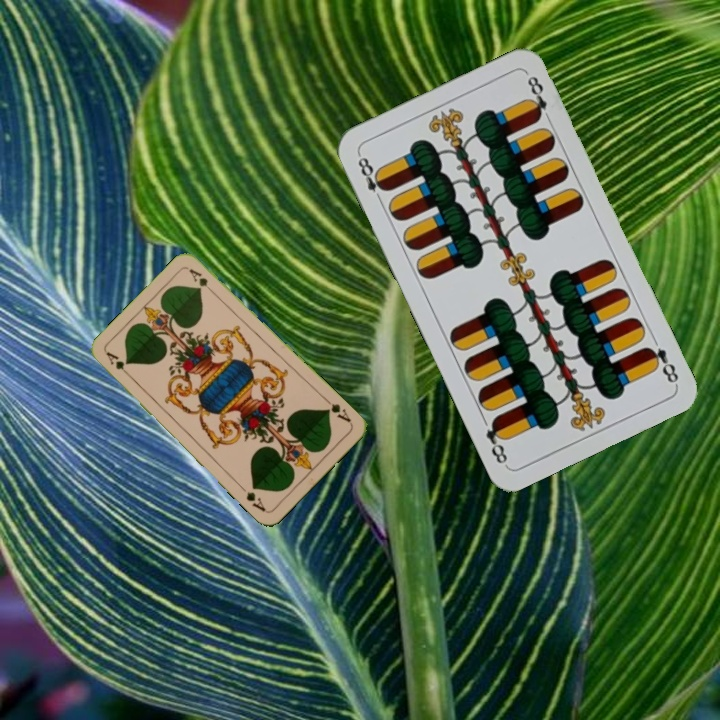E8: (353, 150, 390, 206), (641, 342, 681, 386)
GA: (102, 348, 134, 380), (321, 394, 353, 425)
